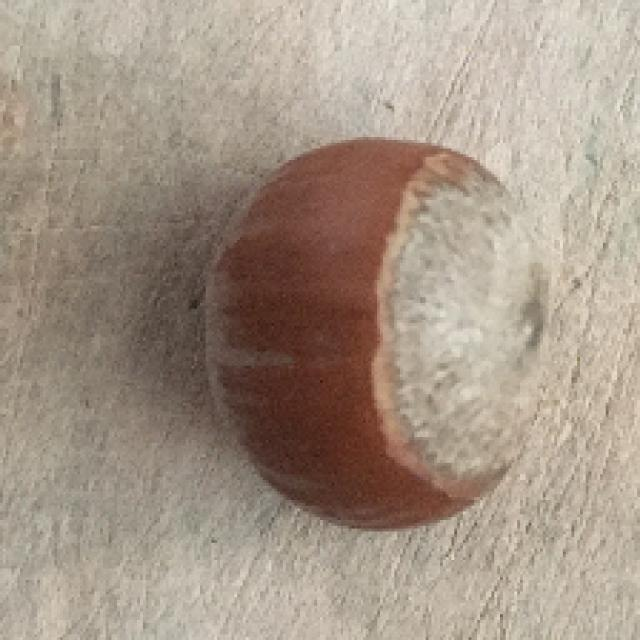qualityHazelnut: (183, 115, 562, 541)
